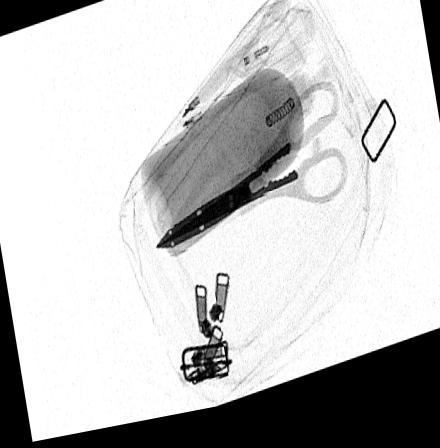Scissors: (154, 93, 350, 255)
